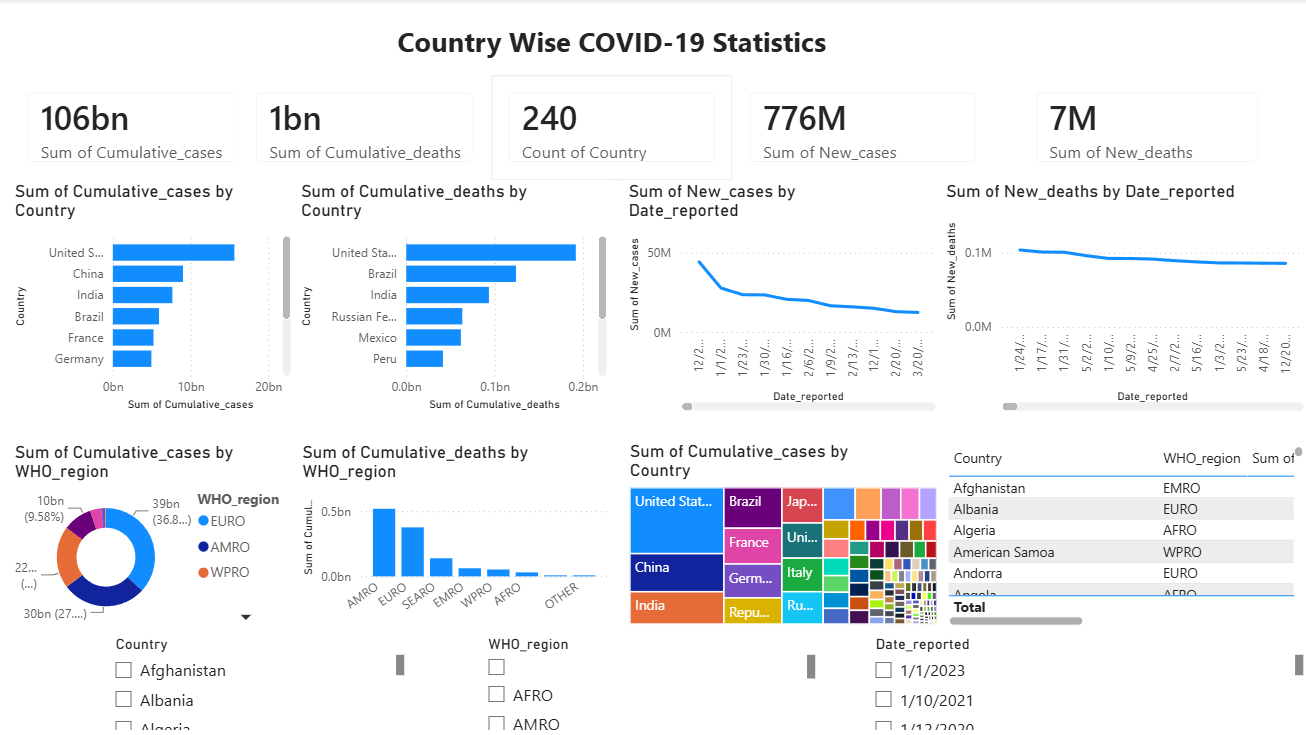

This screenshot's page, from the dashboard's own definition file:
{"tool":"powerbi","page":{"name":"Page 1","canvas":[1280,720],"ordinal":0},"visuals":[{"type":"cardVisual","title":"Total Cases","fields":{"Data":["Sum(WHO COVID-19 cases.Cumulative_cases)"]},"box":[9.6,74.1,237.4,102.9],"z":0},{"type":"cardVisual","title":"Total Deaths","fields":{"Data":["Sum(WHO COVID-19 cases.Cumulative_deaths)"]},"box":[233.3,74.1,247,102.9],"z":1000},{"type":"cardVisual","fields":{"Data":["Count(WHO COVID-19 cases.Country)"]},"box":[480.3,74.1,236,102.9],"z":2000},{"type":"clusteredBarChart","fields":{"Category":["WHO COVID-19 cases.Country"],"Y":["Sum(WHO COVID-19 cases.Cumulative_cases)"]},"box":[9.6,177,279.9,230.5],"z":3000},{"type":"cardVisual","fields":{"Data":["Sum(WHO COVID-19 cases.New_cases)"]},"box":[716.3,74.1,255.2,102.9],"z":4000},{"type":"cardVisual","fields":{"Data":["Sum(WHO COVID-19 cases.New_deaths)"]},"box":[996.2,74.1,251.1,102.9],"z":5000},{"type":"clusteredBarChart","fields":{"Category":["WHO COVID-19 cases.Country"],"Y":["Sum(WHO COVID-19 cases.Cumulative_deaths)"]},"box":[289.5,177,308.7,230.5],"z":6000},{"type":"lineChart","fields":{"Category":["WHO COVID-19 cases.Date_reported"],"Y":["Sum(WHO COVID-19 cases.New_cases)"]},"box":[610.6,177,310.1,230.5],"z":7000},{"type":"lineChart","fields":{"Category":["WHO COVID-19 cases.Date_reported"],"Y":["Sum(WHO COVID-19 cases.New_deaths)"]},"box":[920.8,177,359.5,230.5],"z":8000},{"type":"donutChart","fields":{"Category":["WHO COVID-19 cases.WHO_region"],"Y":["Sum(WHO COVID-19 cases.Cumulative_cases)"]},"box":[9.5,432.4,281.1,185.1],"z":9000},{"type":"clusteredColumnChart","fields":{"Category":["WHO COVID-19 cases.WHO_region"],"Y":["Sum(WHO COVID-19 cases.Cumulative_deaths)"]},"box":[290.5,432.4,308.1,185.1],"z":10000},{"type":"tableEx","fields":{"Values":["WHO COVID-19 cases.Country","WHO COVID-19 cases.WHO_region","Sum(WHO COVID-19 cases.Cumulative_cases)","Sum(WHO COVID-19 cases.Cumulative_deaths)","Sum(WHO COVID-19 cases.New_cases)","Sum(WHO COVID-19 cases.New_deaths)"]},"box":[921.6,432.4,358.1,185.1],"z":11000},{"type":"slicer","fields":{"Values":["WHO COVID-19 cases.Country"]},"box":[100,617.6,300,102.7],"z":12000},{"type":"slicer","fields":{"Values":["WHO COVID-19 cases.WHO_region"]},"box":[464.9,617.6,337.8,102.7],"z":13000},{"type":"slicer","fields":{"Values":["WHO COVID-19 cases.Date_reported"]},"box":[843.2,617.6,436.5,102.7],"z":14000},{"type":"treemap","fields":{"Group":["WHO COVID-19 cases.Country"],"Values":["Sum(WHO COVID-19 cases.Cumulative_cases)"]},"box":[611,432,310,185],"z":15000},{"type":"textbox","box":[383.8,18.9,587.8,55.4],"z":15001}]}

Visuals, with their boxes in screenshot pixels (x1, y1, x2, y2), scaled from the page's 1280x720 canvas onto the 1306x735 screenshot:
"Total Cases" cardVisual: bbox=[10, 76, 252, 181]
"Total Deaths" cardVisual: bbox=[238, 76, 490, 181]
cardVisual - Count(WHO COVID-19 cases.Country): bbox=[490, 76, 731, 181]
clusteredBarChart - WHO COVID-19 cases.Country x Sum(WHO COVID-19 cases.Cumulative_cases): bbox=[10, 181, 295, 416]
cardVisual - Sum(WHO COVID-19 cases.New_cases): bbox=[731, 76, 991, 181]
cardVisual - Sum(WHO COVID-19 cases.New_deaths): bbox=[1016, 76, 1273, 181]
clusteredBarChart - WHO COVID-19 cases.Country x Sum(WHO COVID-19 cases.Cumulative_deaths): bbox=[295, 181, 610, 416]
lineChart - WHO COVID-19 cases.Date_reported x Sum(WHO COVID-19 cases.New_cases): bbox=[623, 181, 939, 416]
lineChart - WHO COVID-19 cases.Date_reported x Sum(WHO COVID-19 cases.New_deaths): bbox=[940, 181, 1305, 416]
donutChart - WHO COVID-19 cases.WHO_region x Sum(WHO COVID-19 cases.Cumulative_cases): bbox=[10, 441, 297, 630]
clusteredColumnChart - WHO COVID-19 cases.WHO_region x Sum(WHO COVID-19 cases.Cumulative_deaths): bbox=[296, 441, 611, 630]
tableEx - WHO COVID-19 cases.Country x WHO COVID-19 cases.WHO_region: bbox=[940, 441, 1305, 630]
slicer - WHO COVID-19 cases.Country: bbox=[102, 630, 408, 734]
slicer - WHO COVID-19 cases.WHO_region: bbox=[474, 630, 819, 734]
slicer - WHO COVID-19 cases.Date_reported: bbox=[860, 630, 1305, 734]
treemap - WHO COVID-19 cases.Country x Sum(WHO COVID-19 cases.Cumulative_cases): bbox=[623, 441, 940, 630]
textbox: bbox=[392, 19, 991, 76]
